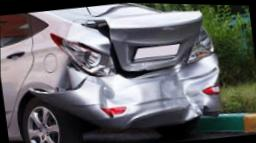Bumper: (30, 52, 221, 128)
Dickey: (73, 8, 200, 78)
Fender: (51, 63, 84, 88)
Light: (51, 32, 115, 75), (188, 35, 212, 64)
